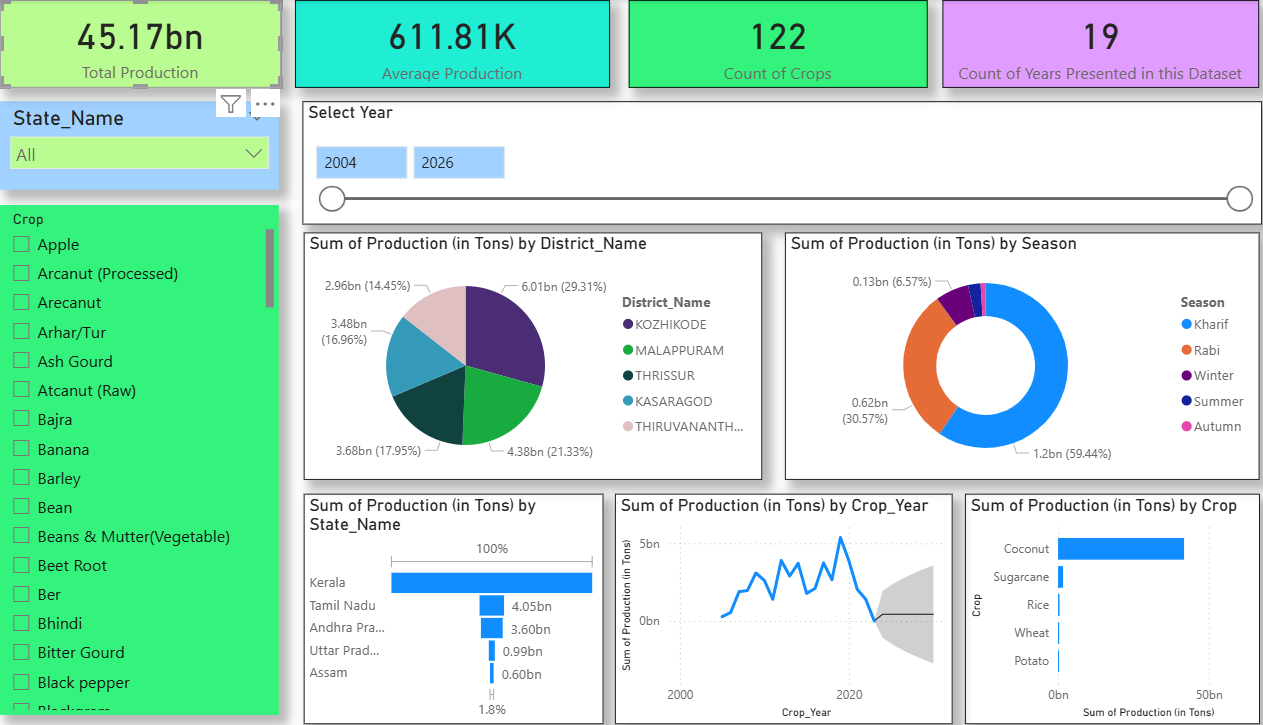

What the dashboard file says about the page in this screenshot:
{"tool":"powerbi","page":{"name":"Page 1","canvas":[1280,720],"ordinal":0},"visuals":[{"type":"slicer","fields":{"Values":["Crops_Data.State_Name"]},"box":[14.9,100.5,276.8,88.1],"z":0},{"type":"slicer","fields":{"Values":["Crops_Data.Crop"]},"box":[14.9,203.6,276.8,506.4],"z":1000},{"type":"slicer","title":"Select Year","fields":{"Values":["Crops_Data.Crop_Year"]},"box":[315.6,100.3,952.5,122.2],"z":2000},{"type":"barChart","fields":{"Category":["Crops_Data.Crop"],"Y":["Sum(Crops_Data.Production (in Tons))"]},"box":[973,490.5,292.4,229.1],"z":3000},{"type":"funnel","fields":{"Category":["Crops_Data.State_Name"],"Y":["Sum(Crops_Data.Production (in Tons))"]},"box":[316.7,490.5,297.8,229.1],"z":4000},{"type":"pieChart","fields":{"Y":["Sum(Crops_Data.Production (in Tons))"],"Category":["Crops_Data.District_Name"]},"box":[317,231.2,455.2,245.8],"z":5000},{"type":"lineChart","fields":{"Category":["Crops_Data.Crop_Year"],"Y":["Sum(Crops_Data.Production (in Tons))"]},"box":[625.3,490.5,335.6,229.1],"z":6000},{"type":"donutChart","fields":{"Category":["Crops_Data.Season"],"Y":["Sum(Crops_Data.Production (in Tons))"]},"box":[794,231.2,471.2,245.8],"z":7000},{"type":"card","fields":{"Values":["Crops_Data.Total Production"]},"box":[14.9,0,279.3,86.9],"z":8000},{"type":"card","fields":{"Values":["Crops_Data.Average Production"]},"box":[308.3,0,312.7,87.3],"z":9000},{"type":"card","fields":{"Values":["Crops_Data.Count of Crops"]},"box":[639.9,0,296.7,87.3],"z":10000},{"type":"card","fields":{"Values":["Crops_Data.Count of Years Presented in this Dataset"]},"box":[951.1,0,314.1,87.3],"z":11000}]}

Visuals, with their boxes in screenshot pixels (x1, y1, x2, y2), scaled from the page's 1280x720 canvas onto the 1263x725 screenshot:
slicer - Crops_Data.State_Name: [left=15, top=101, right=288, bottom=190]
slicer - Crops_Data.Crop: [left=15, top=205, right=288, bottom=715]
"Select Year" slicer: [left=311, top=101, right=1251, bottom=224]
barChart - Crops_Data.Crop x Sum(Crops_Data.Production (in Tons)): [left=960, top=494, right=1249, bottom=724]
funnel - Crops_Data.State_Name x Sum(Crops_Data.Production (in Tons)): [left=312, top=494, right=606, bottom=724]
pieChart - Sum(Crops_Data.Production (in Tons)) x Crops_Data.District_Name: [left=313, top=233, right=762, bottom=480]
lineChart - Crops_Data.Crop_Year x Sum(Crops_Data.Production (in Tons)): [left=617, top=494, right=948, bottom=724]
donutChart - Crops_Data.Season x Sum(Crops_Data.Production (in Tons)): [left=783, top=233, right=1248, bottom=480]
card - Crops_Data.Total Production: [left=15, top=0, right=290, bottom=88]
card - Crops_Data.Average Production: [left=304, top=0, right=613, bottom=88]
card - Crops_Data.Count of Crops: [left=631, top=0, right=924, bottom=88]
card - Crops_Data.Count of Years Presented in this Dataset: [left=938, top=0, right=1248, bottom=88]
